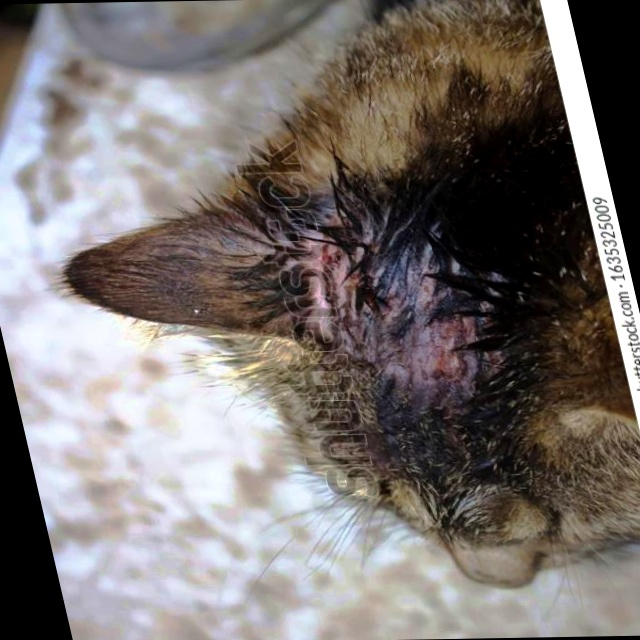ringworm: (278, 213, 495, 396)
